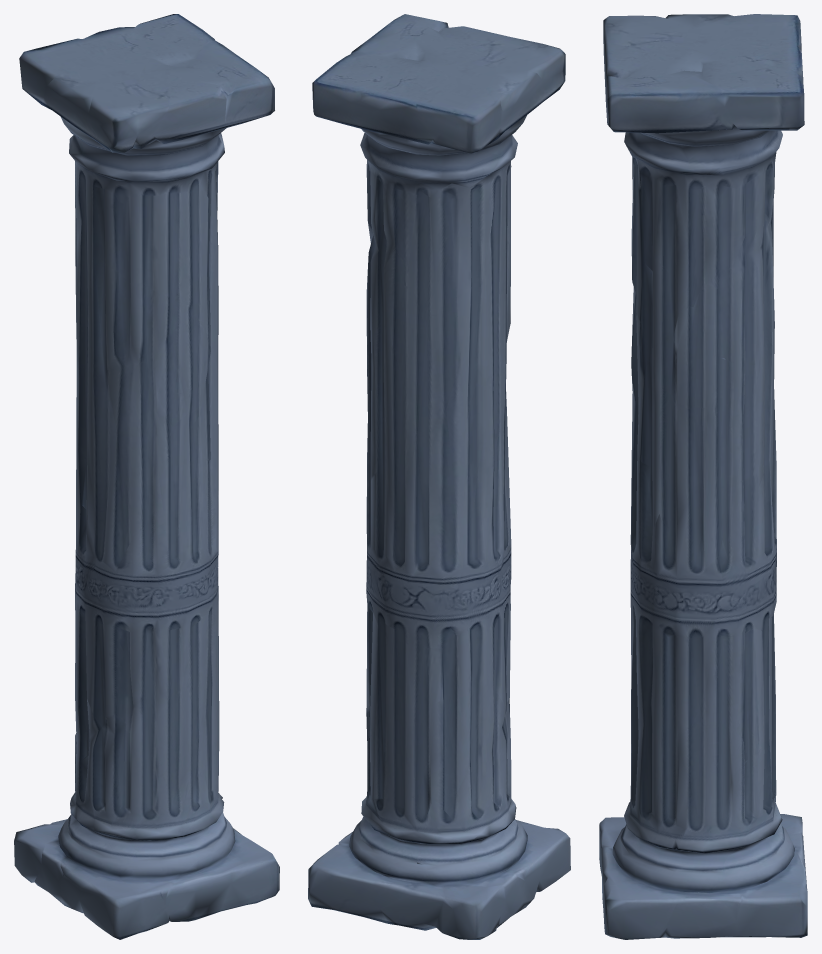
Rendered from arena_pillar.glb.
3 views of the same model, side by side, from view 1: azimuth 30°, elevation 25°; view 2: azimuth 150°, elevation 25°; view 3: azimuth 270°, elevation 25° (orthographic). The views are drawn at different scales.
Parts seen in each view (by area): view 1: tripo_node_d802421d-9622-46bd-9b6a-c0d384fd82b6; view 2: tripo_node_d802421d-9622-46bd-9b6a-c0d384fd82b6; view 3: tripo_node_d802421d-9622-46bd-9b6a-c0d384fd82b6.
Boxes of the visible parts, left/top/right/bottom form: tripo_node_d802421d-9622-46bd-9b6a-c0d384fd82b6: left=14, top=14, right=279, bottom=939; tripo_node_d802421d-9622-46bd-9b6a-c0d384fd82b6: left=308, top=14, right=570, bottom=939; tripo_node_d802421d-9622-46bd-9b6a-c0d384fd82b6: left=599, top=14, right=807, bottom=939.
Size of the model in its own units: 0.2229 by 1 by 0.2242.
Materials: 1 (1 with a texture image).
